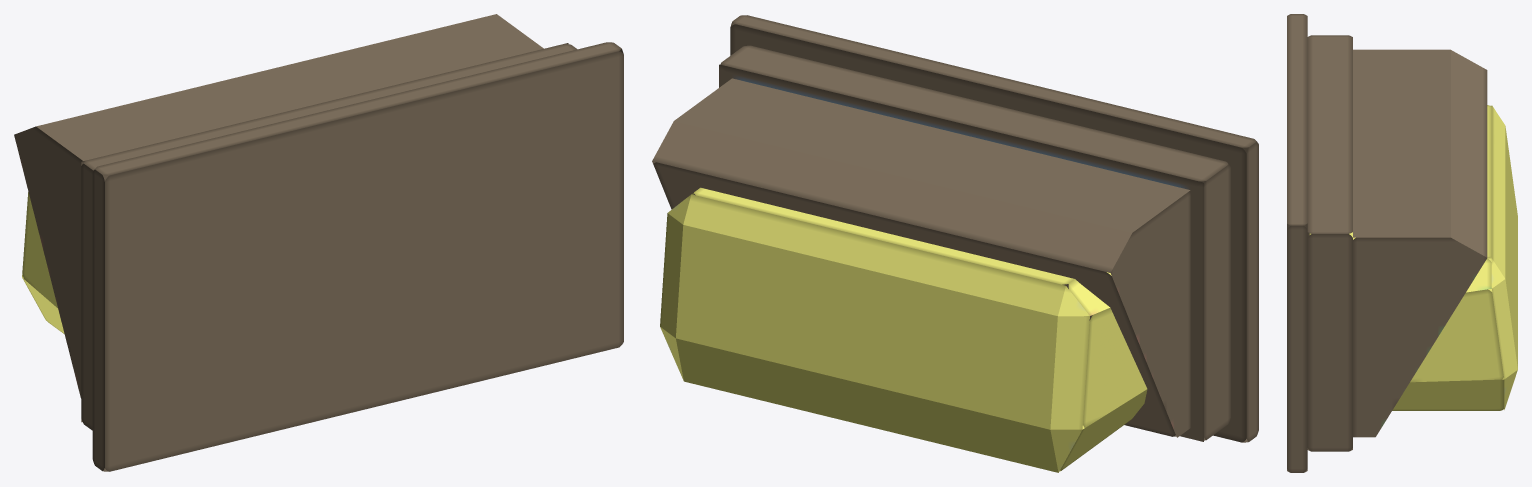
The model's file is LED Light Fixture.fbx.
3 renders of one model, left to right at view 1: azimuth 30°, elevation 25°; view 2: azimuth 150°, elevation 25°; view 3: azimuth 270°, elevation 25°, orthographic. The views are drawn at different scales.
Visible parts, largest first — view 1: Base, Light; view 2: Base, Light; view 3: Base, Light.
Part boxes in pixels (bbox=[...]): Base: bbox=[14, 14, 623, 471]; Light: bbox=[22, 192, 64, 333]; Base: bbox=[652, 15, 1258, 442]; Light: bbox=[660, 187, 1147, 472]; Base: bbox=[1287, 14, 1487, 472]; Light: bbox=[1309, 105, 1517, 410].
Size of the model in its own units: 138 by 75 by 63.44.
Materials: 1 (1 with a texture image).
